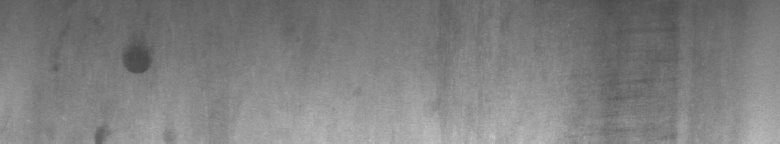fi: (51, 19, 152, 136)
